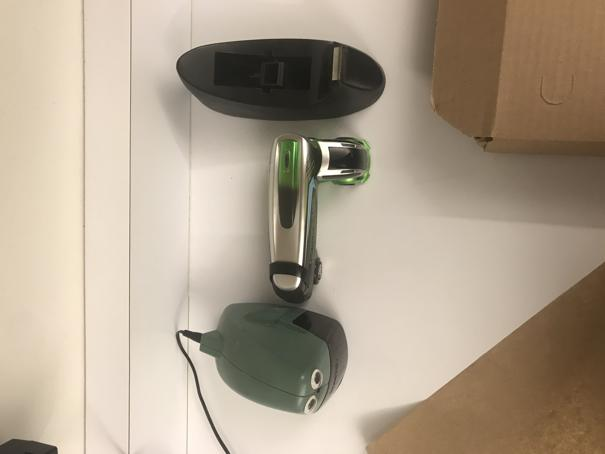Freewheel: (268, 131, 371, 302)
